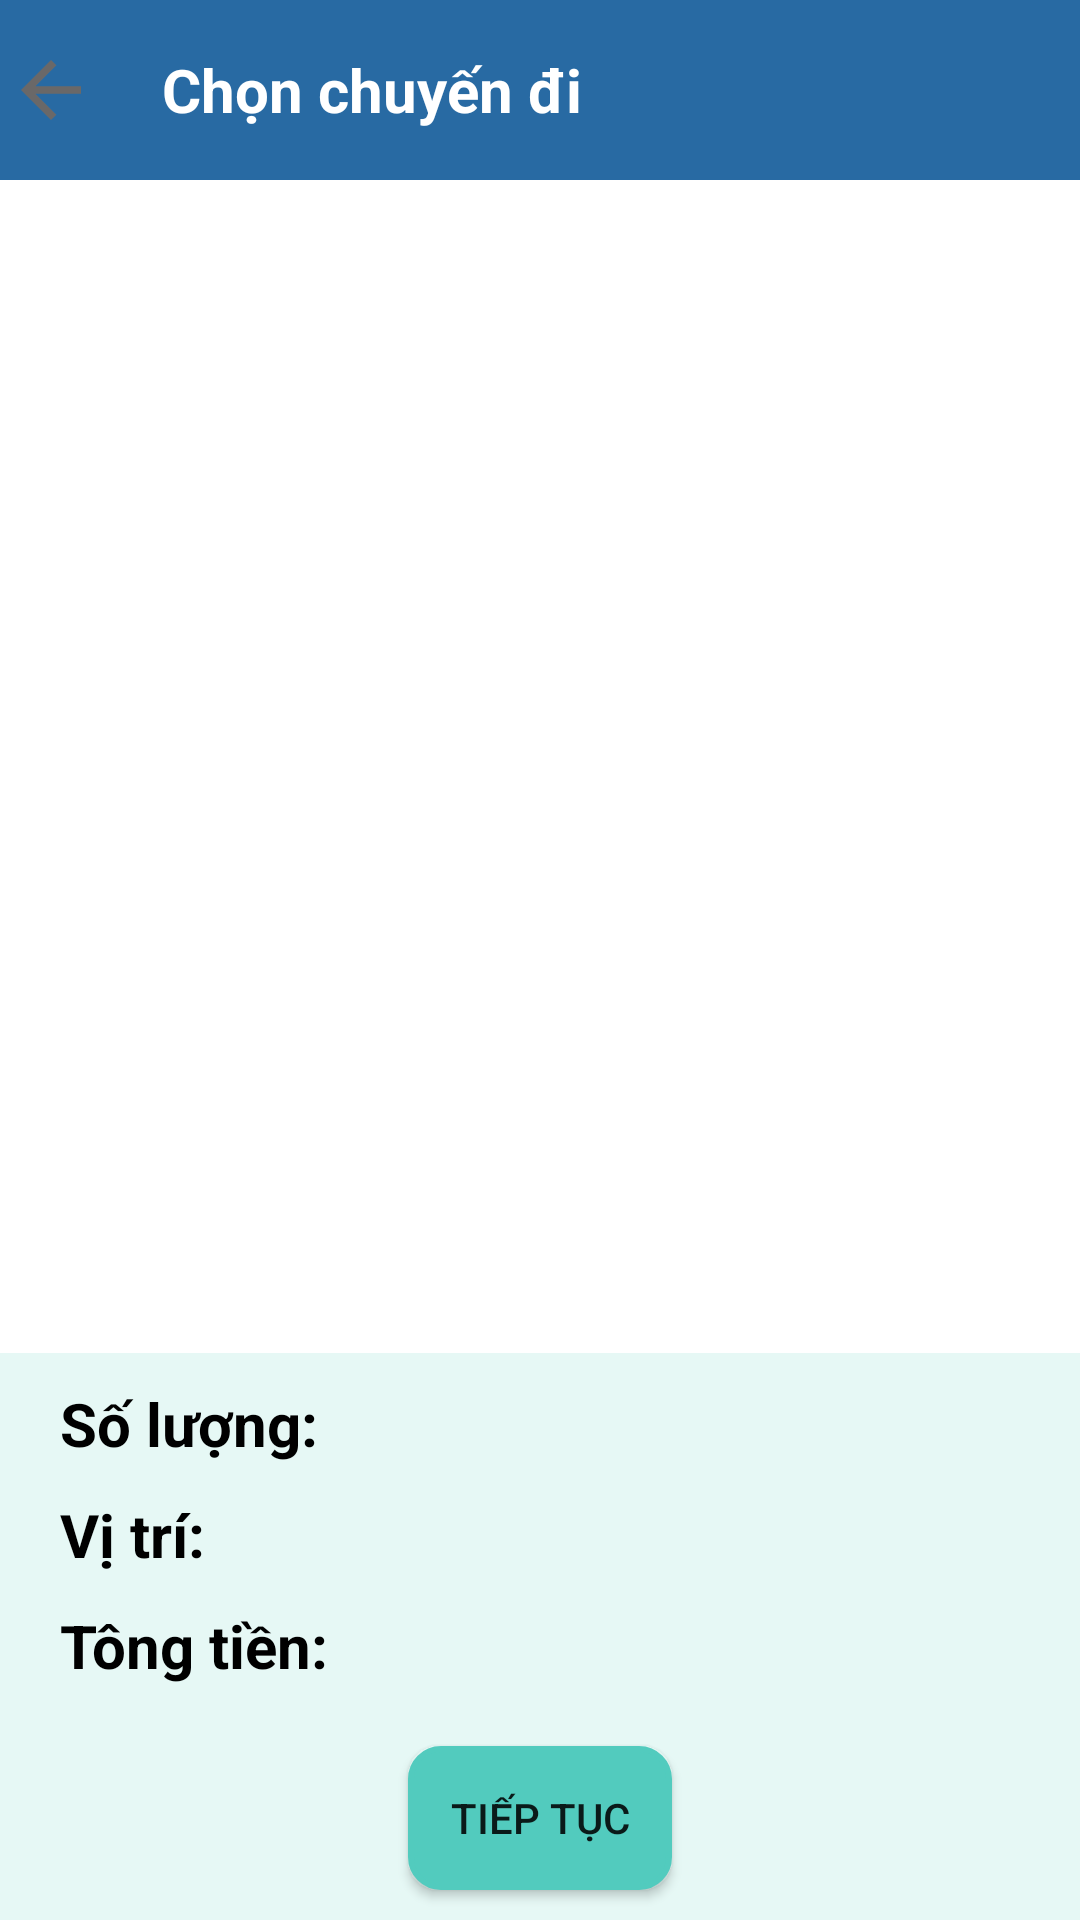

Icon bounding boxes for this 1080px×1920px phone screenshot, format (x1,y1,x2,y2):
back: (21,60,81,120)
